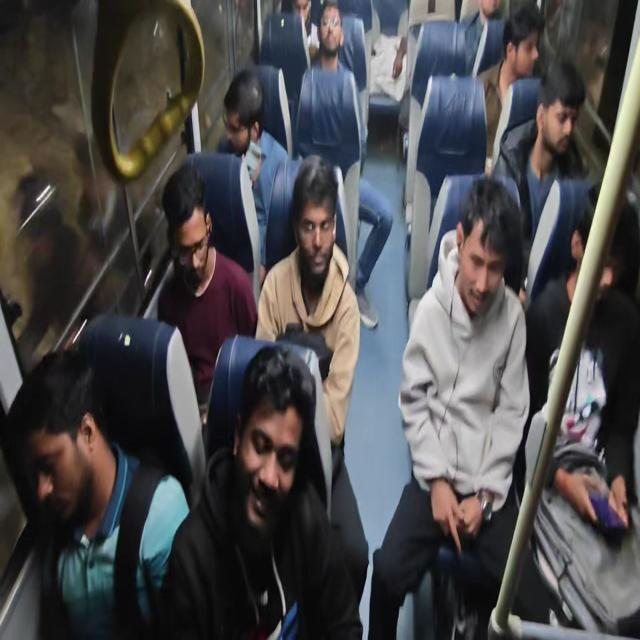person: (2, 1, 638, 638), (367, 174, 531, 638), (159, 344, 364, 638), (5, 346, 190, 638), (524, 193, 639, 538), (294, 1, 393, 328), (255, 153, 361, 454), (156, 163, 258, 417), (491, 57, 591, 296), (217, 68, 295, 277), (10, 169, 82, 370), (295, 0, 366, 176), (476, 1, 546, 175), (460, 0, 506, 77), (281, 0, 320, 63)
